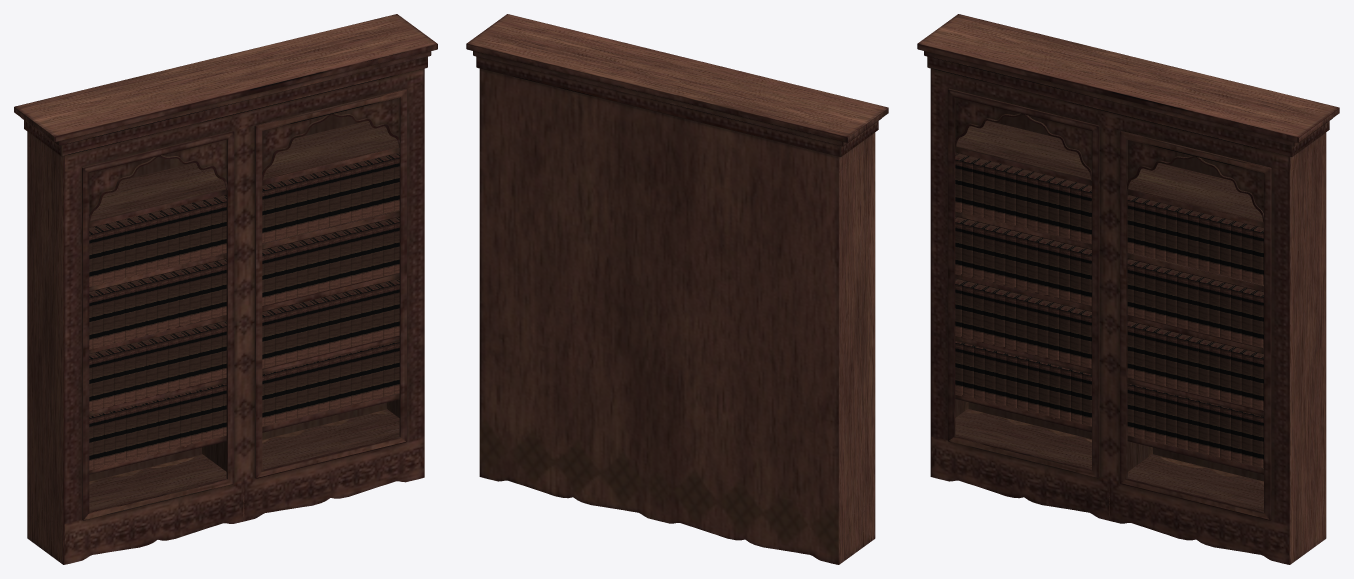
The model's file is BookShelfWithBooks.fbx.
The picture shows the model from 3 angles, left to right: view 1: azimuth 30°, elevation 25°; view 2: azimuth 150°, elevation 25°; view 3: azimuth 330°, elevation 25°; orthographic projection.
Visible parts, largest first — view 1: Book case 1.001, Old leather book.007; view 2: Book case 1.001; view 3: Book case 1.001, Old leather book.007.
Part boxes in pixels (box(x1,y1,x2,y2)): Book case 1.001: box(14, 14, 437, 564); Old leather book.007: box(89, 152, 399, 470); Book case 1.001: box(466, 14, 888, 564); Book case 1.001: box(917, 14, 1339, 564); Old leather book.007: box(955, 153, 1263, 467).
Bounding box in the file's own units: 346 × 374 × 65.06.
17 materials, 17 textured.
